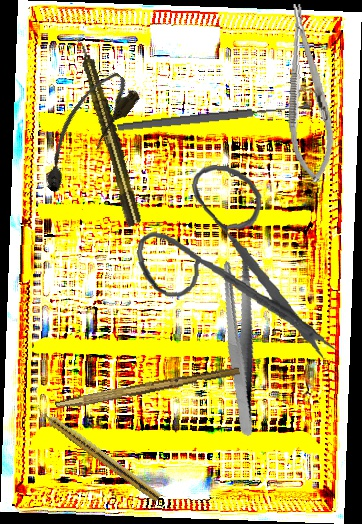Cannula: (25, 65, 144, 199)
Dressing Forceps: (190, 242, 290, 438)
Handpiece: (72, 34, 144, 228), (32, 402, 164, 503)
Iris Scissors: (129, 159, 354, 362)
Needle Holder: (276, 1, 339, 185)
Scalpel Handle: (54, 362, 241, 415)
Surgical Spoon: (116, 101, 312, 134)
